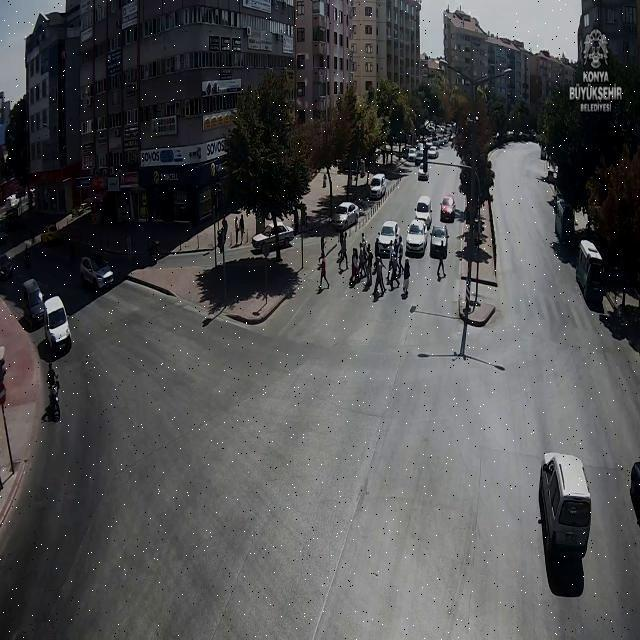Bus: (577, 240, 605, 304)
Car: (252, 221, 296, 252), (80, 255, 115, 286), (376, 220, 402, 256), (332, 202, 361, 230), (405, 220, 428, 253), (430, 225, 449, 257), (414, 196, 434, 226), (440, 195, 456, 222), (40, 224, 58, 243), (0, 254, 13, 280), (417, 164, 429, 181), (414, 148, 425, 164), (406, 148, 417, 163), (427, 147, 439, 159)
Van: (538, 452, 592, 554), (41, 296, 71, 350), (22, 278, 47, 324), (368, 173, 386, 199)
